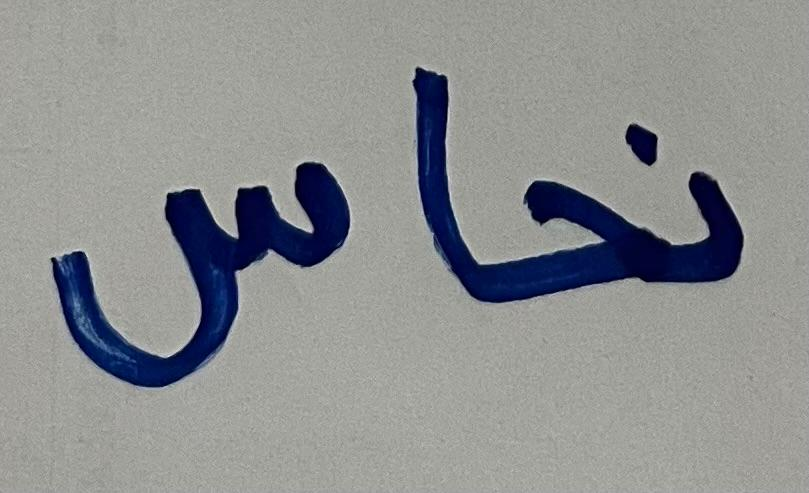alef: (391, 33, 487, 365)
hah: (494, 121, 615, 349)
noon: (619, 80, 750, 321)
seen: (16, 61, 382, 415)
